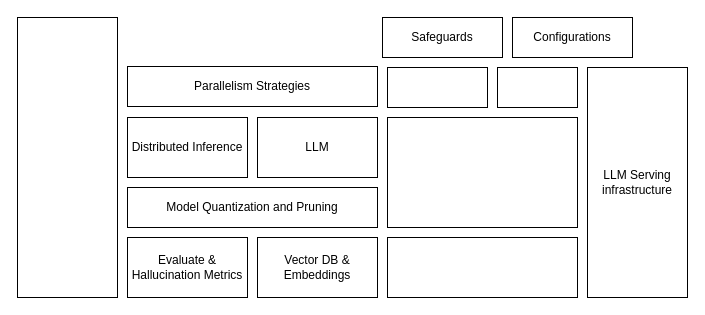
Image size: 705x315. Some labels were removed from this diagram. Each missing label, with the box of its shape:
AI Governance: (386, 66, 488, 108)
Domain Specific Data Collection: (16, 16, 118, 298)
Kernel & Attention Optimization: (386, 236, 578, 298)
Memory management: (386, 116, 578, 228)
Prompt engineering: (496, 66, 578, 108)
